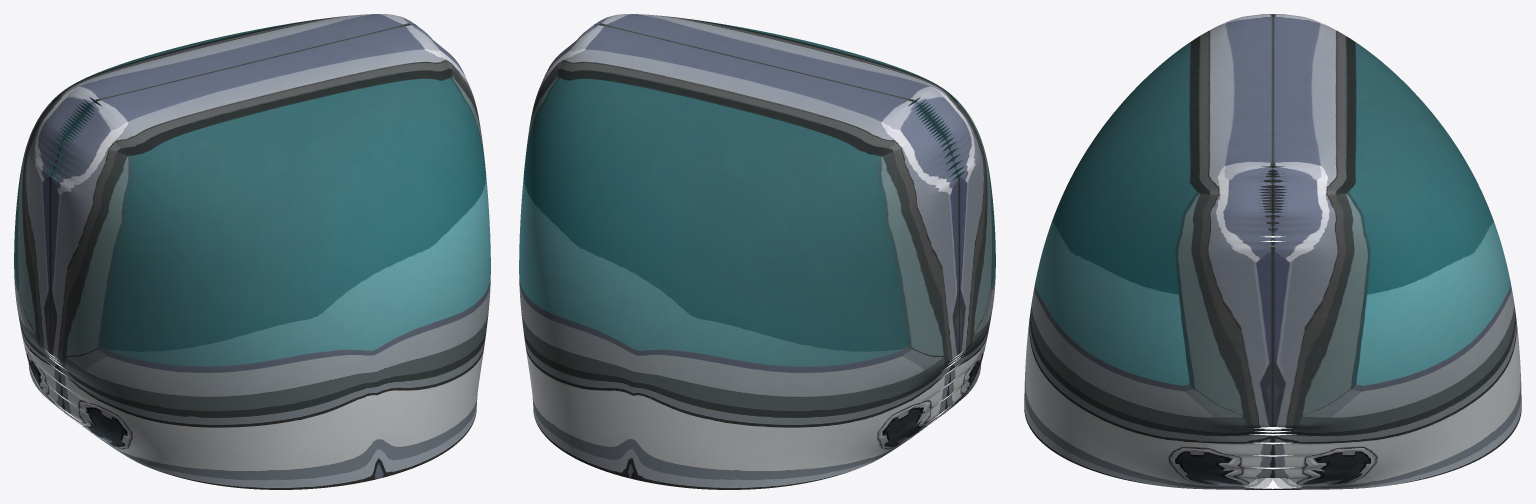
Rendered from upper_monitor.glb.
3 views of the same model, side by side, from view 1: azimuth 30°, elevation 25°; view 2: azimuth 150°, elevation 25°; view 3: azimuth 270°, elevation 25° (orthographic).
Parts seen in each view (by area): view 1: upper_monitor; view 2: upper_monitor; view 3: upper_monitor.
Part boxes in pixels (<box>): upper_monitor: <box>14,14,490,489</box>; upper_monitor: <box>519,14,995,489</box>; upper_monitor: <box>1024,14,1521,489</box>.
Bounding box in the file's own units: 0.989 × 0.758 × 1.07.
1 material, 1 textured.
